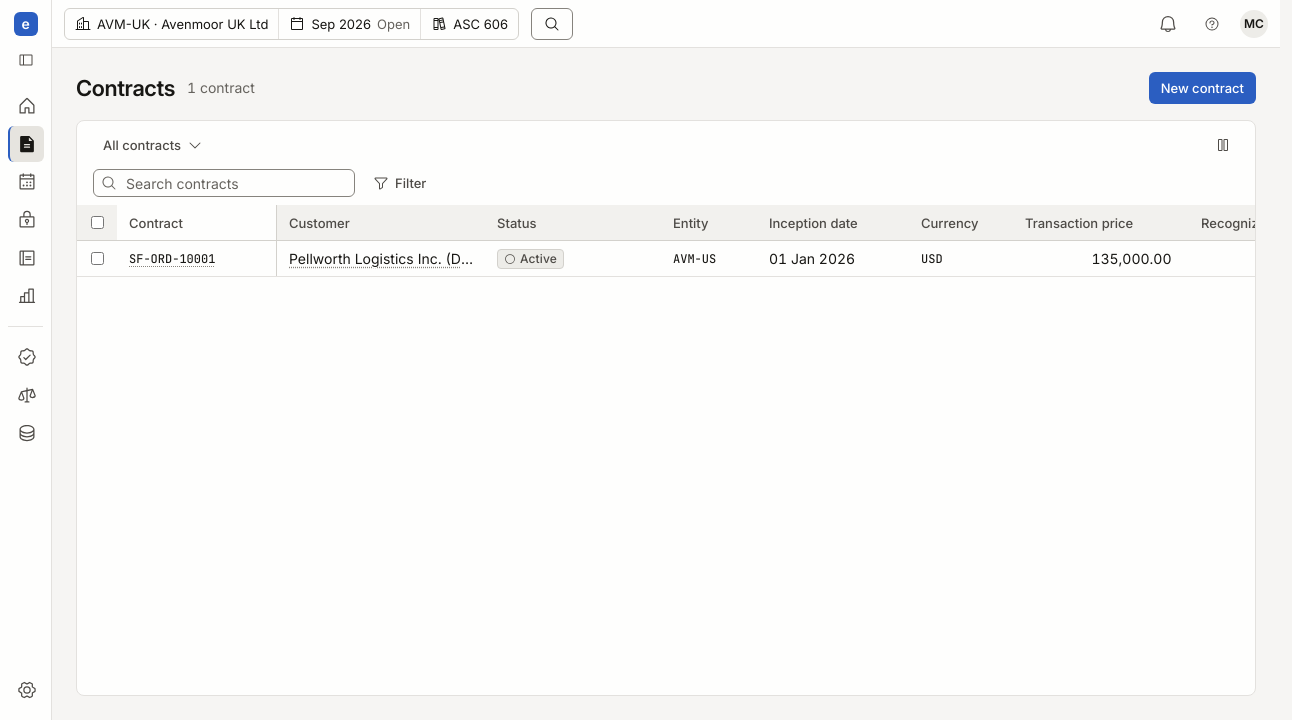
Test: SF-02 contracts list › quick list sends literal
Expected: the element "SF-ORD-10001" is shown, [117,241,277,276]
Expected: the heading "Contracts" is shown, [76,74,175,102]
Click the button with aria-label "View: All contracts" at [153, 145], box [93,131,213,159]
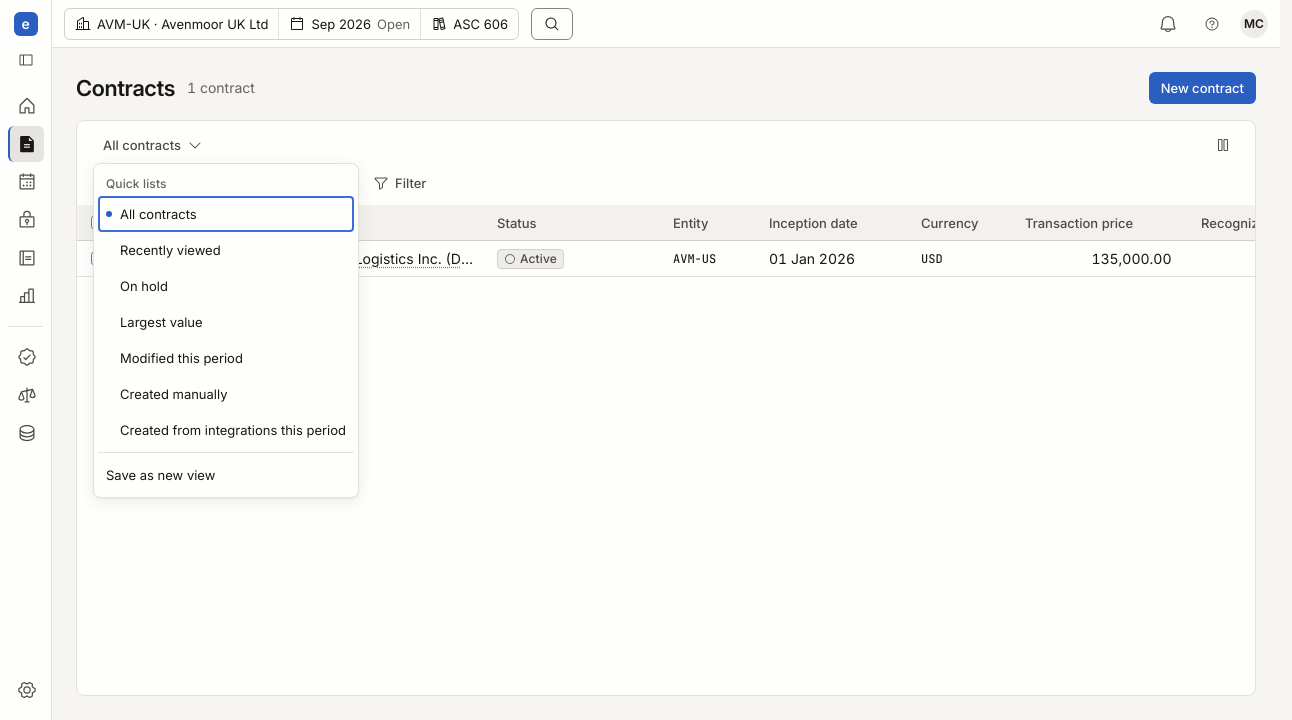
Click the menu item "Largest value" at [226, 322], box [98,304,354,340]
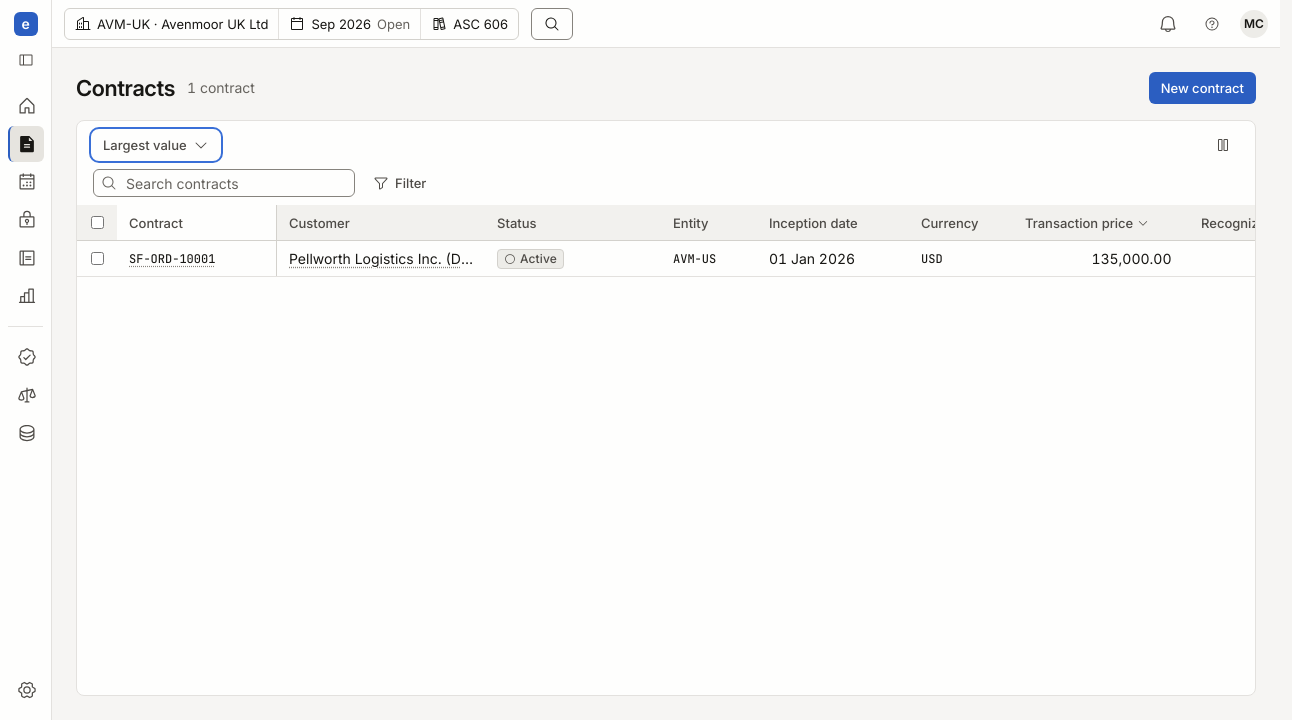
Expected: the button with aria-label "View: Largest value" is shown, [93,131,219,159]
